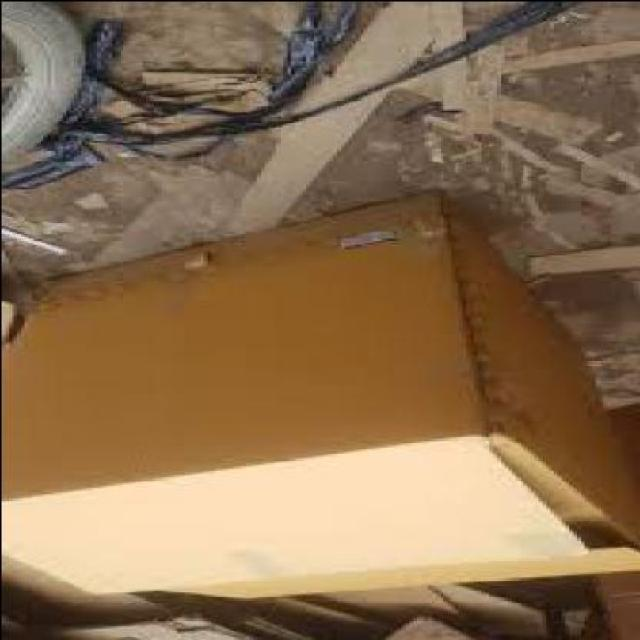CARDBOARD: (1, 186, 632, 602), (2, 190, 480, 498), (2, 431, 580, 595), (442, 196, 636, 570), (183, 548, 635, 600), (2, 541, 160, 617), (297, 582, 548, 621), (46, 618, 329, 638), (374, 615, 495, 639), (484, 464, 518, 508)
